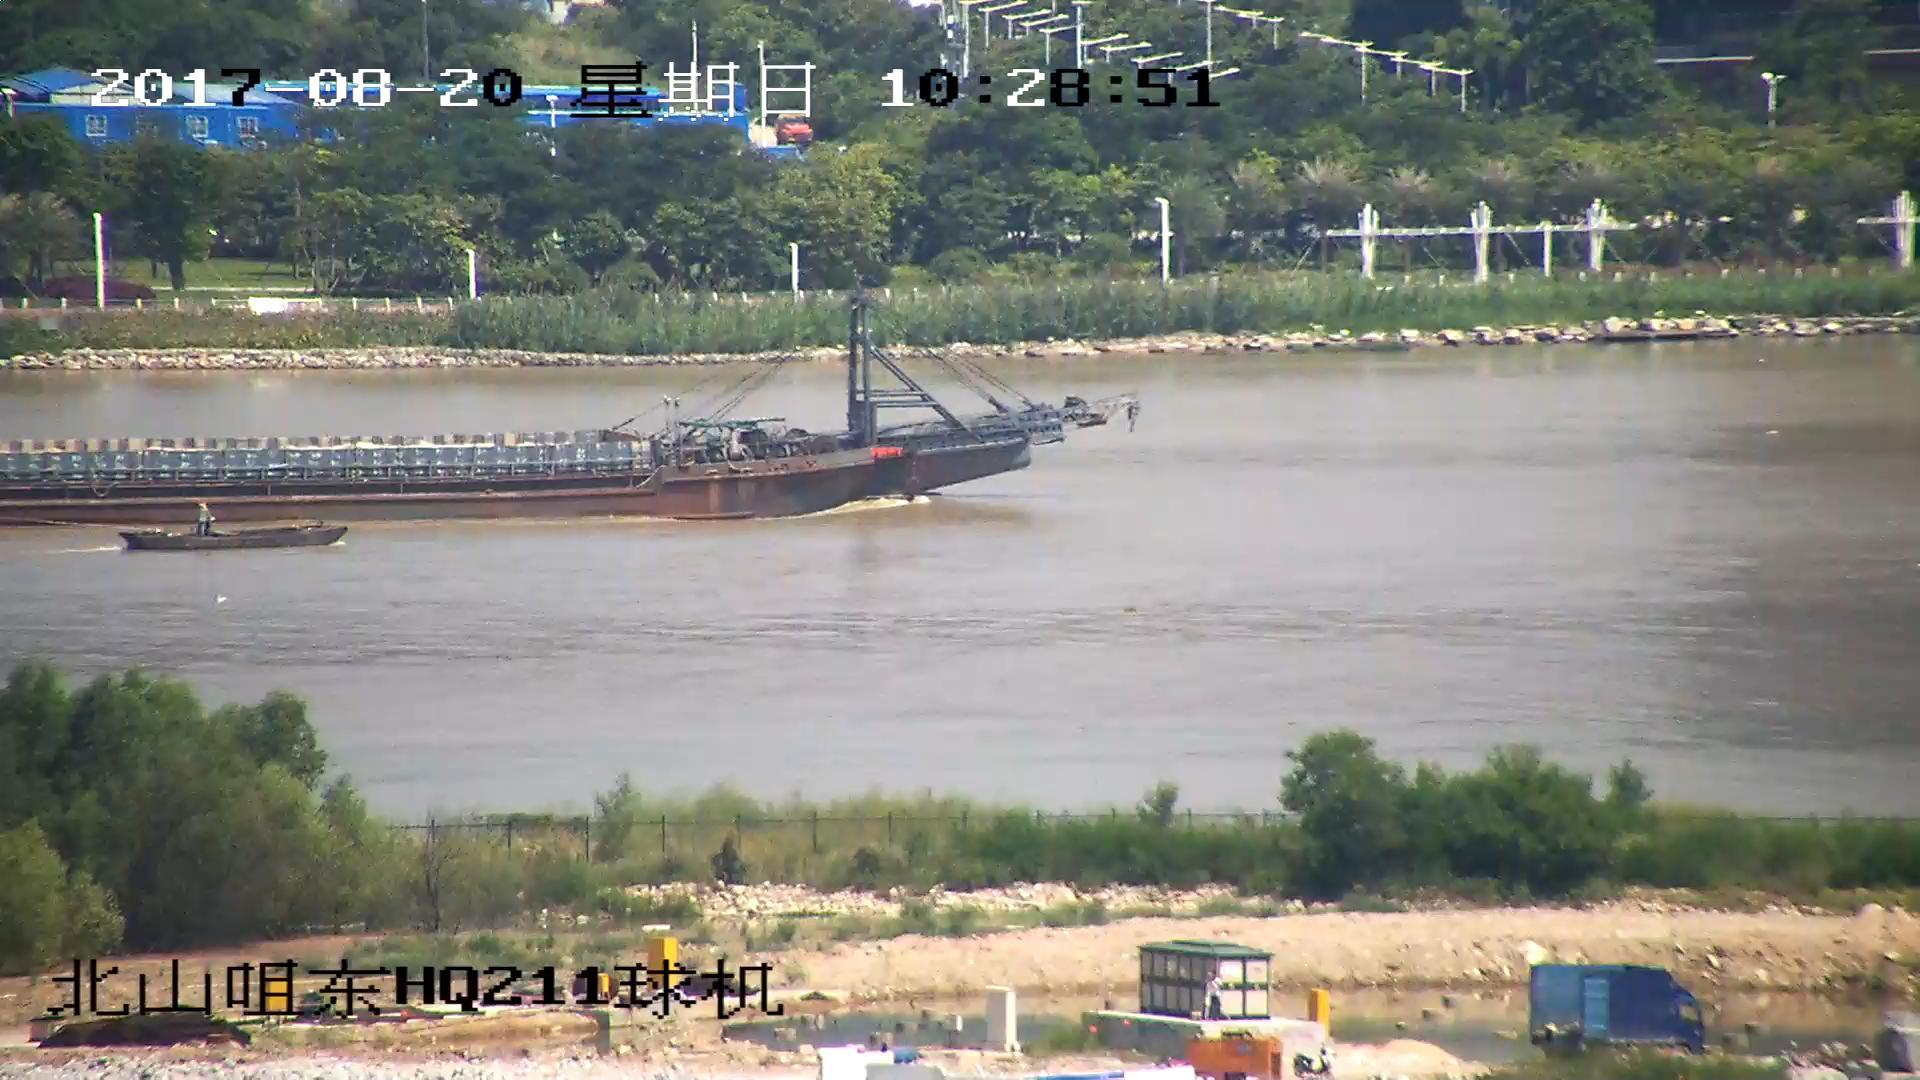Ship: (3, 289, 1130, 531), (115, 508, 352, 555)
